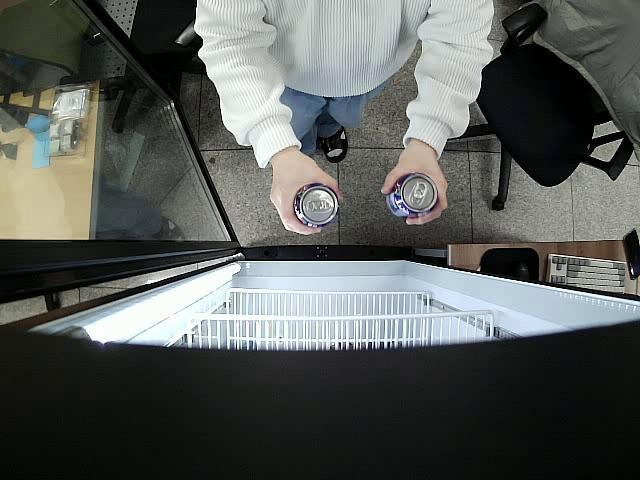14_welchsGrape: (387, 174, 439, 218), (294, 183, 340, 229)
